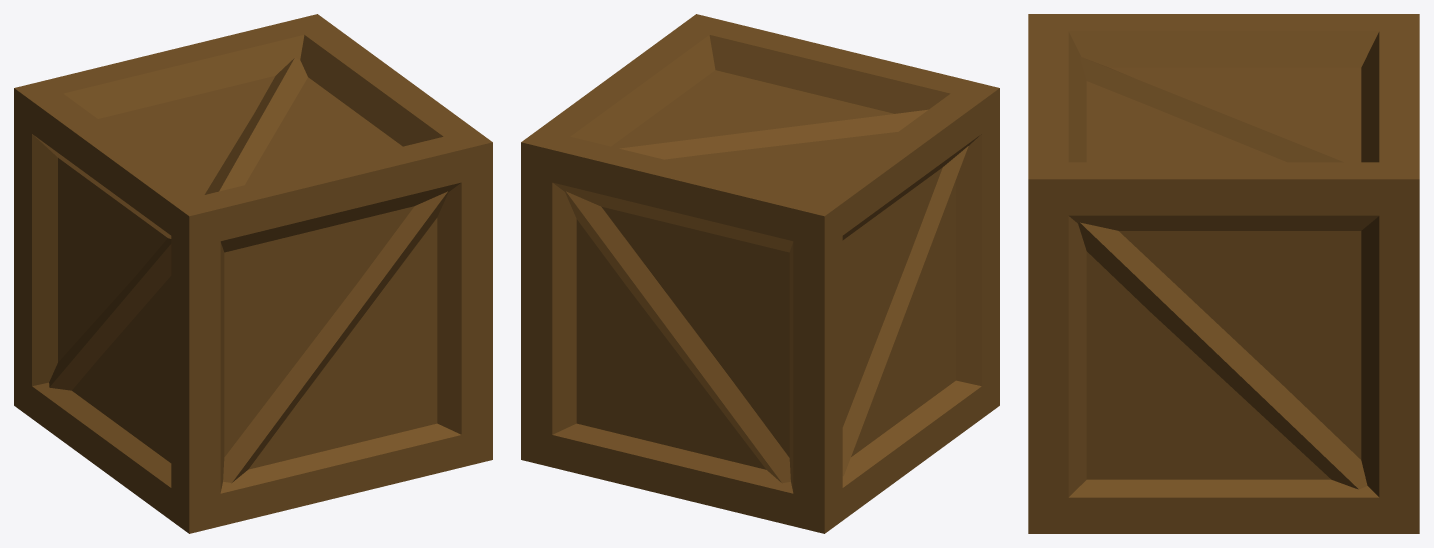
File: fbx_Crate.fbx
3 views of the same model, side by side, from view 1: azimuth 30°, elevation 25°; view 2: azimuth 150°, elevation 25°; view 3: azimuth 270°, elevation 25° (orthographic). The views are drawn at different scales.
Visible parts, largest first — view 1: Crate; view 2: Crate; view 3: Crate.
Boxes of the visible parts, x1=… form: Crate: x1=14, y1=14, x2=492, y2=533; Crate: x1=521, y1=14, x2=999, y2=533; Crate: x1=1028, y1=14, x2=1419, y2=533.
Size of the model in its own units: 200 by 200 by 200.
